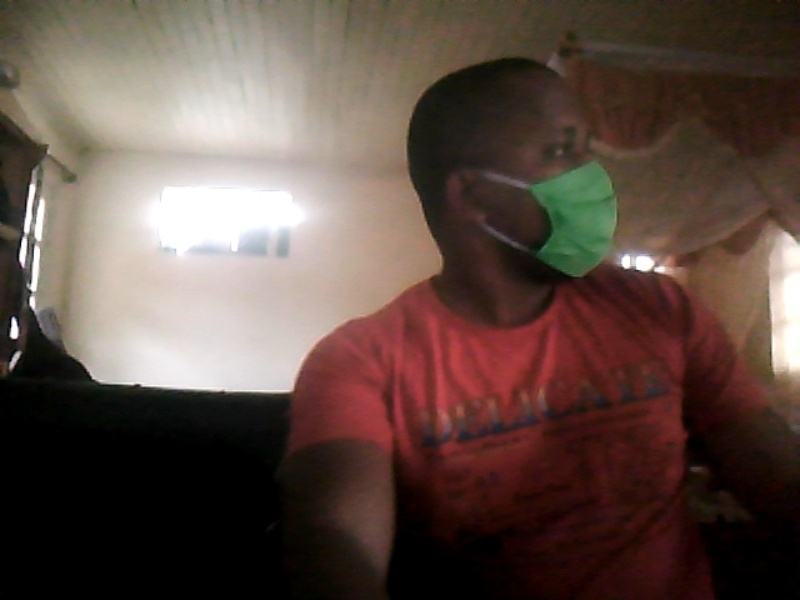ManaoArotava: (471, 70, 652, 303)
